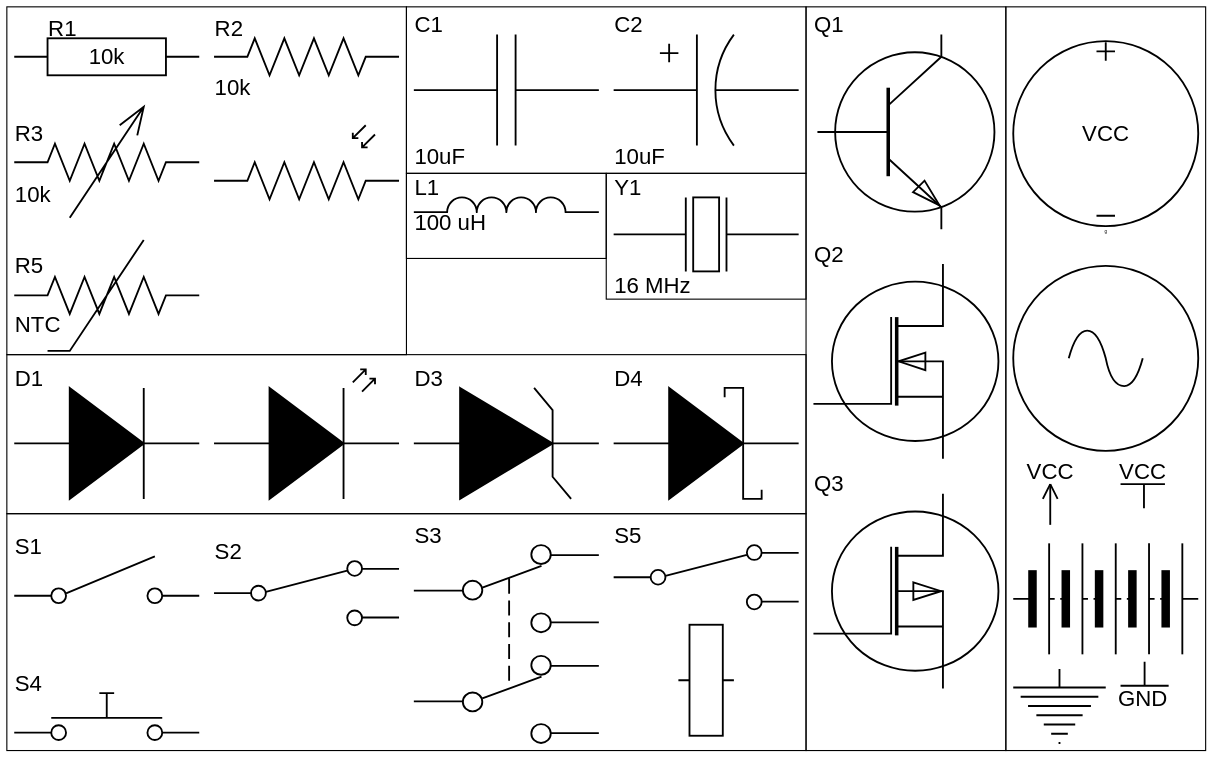
Some shapes in this 1212 by 757 pixel diagram are drawn without their labels. Here are the shapes that lost their labels. From the top down, the centre of each, then its label:
At (306,162): "R4".
At (306,434): "D2".
